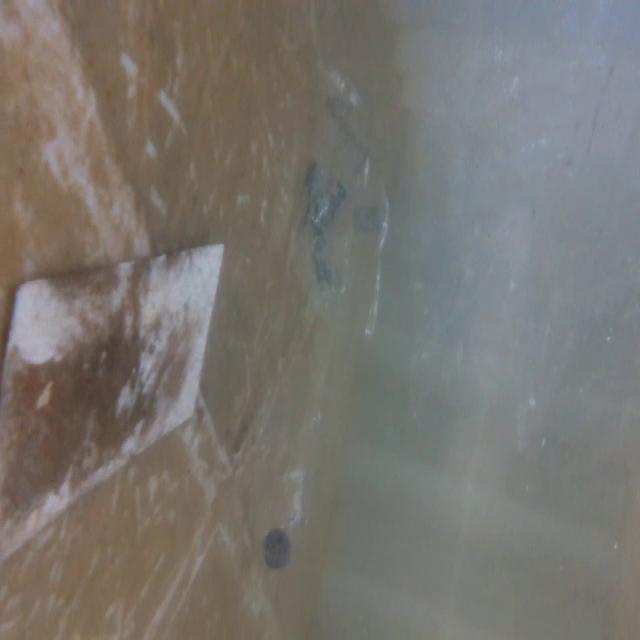plastic bags: (289, 55, 390, 341)
